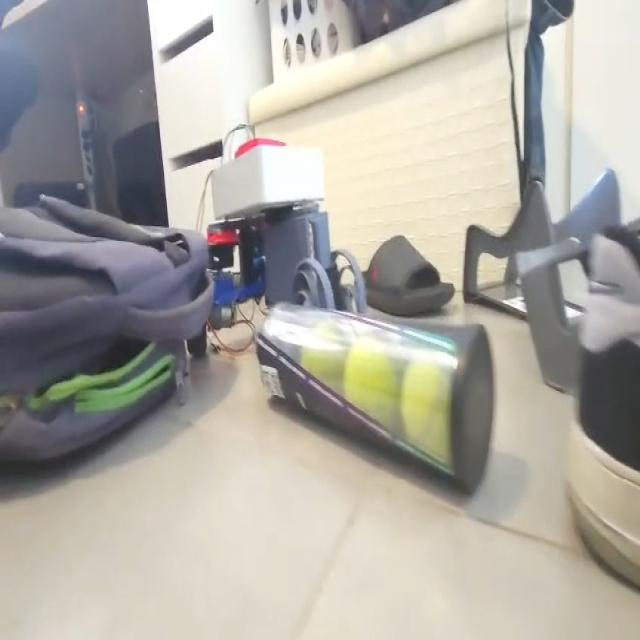Robot: (186, 134, 366, 357)
